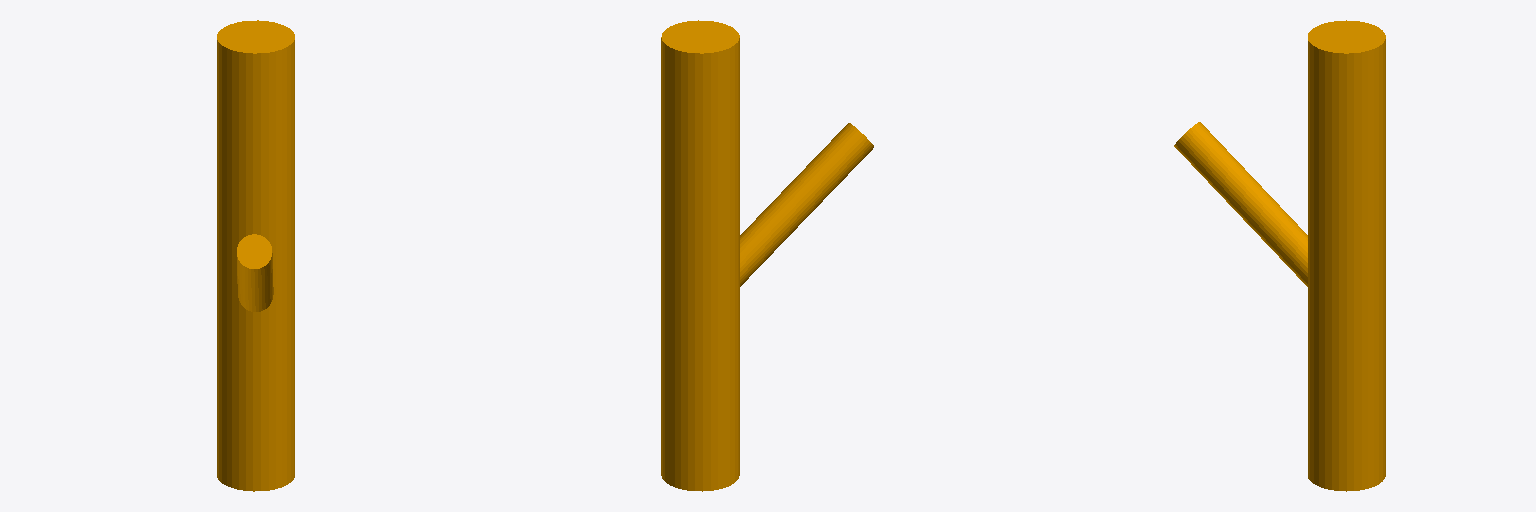
The robot description file, URDF, robot "syn_rack_7":
<?xml version="1.0" ?>
<robot name="syn_rack_7">
    <link concave="yes" name="base_link">
        <inertial>
            <origin rpy="0 0 0" xyz="0 0 0"/>
            <mass value="0.0"/>
            <inertia ixx="1e-08" ixy="0" ixz="0" iyy="1e-08" iyz="0" izz="1e-08"/>
        </inertial>
        <visual>
            <origin xyz="0 0 0" rpy="0 0 0" />
            <geometry>
                <mesh filename="syn_rack_7.obj" scale="1.000000 1.000000 1.000000"/>
            </geometry>
        </visual>

        <collision concave="yes">
            <origin xyz="0 0 0" rpy="0 0 0"/>
            <geometry>
                <mesh filename="syn_rack_7.obj" scale="1.000000 1.000000 1.000000"/>
            </geometry>
        </collision>
    </link>
</robot>
    

--- Render facts (derived) ---
The picture shows the robot from 3 angles, left to right: view 1: azimuth 30°, elevation 25°; view 2: azimuth 150°, elevation 25°; view 3: azimuth 270°, elevation 25°; orthographic projection.
Robot: syn_rack_7 — 1 links, 0 joints (none); root link base_link; default pose: every joint at zero.
Visible links, largest first — view 1: base_link; view 2: base_link; view 3: base_link.
Link boxes in pixels (x1,y1,x2,y2): base_link: (217,20,294,491); base_link: (661,20,873,491); base_link: (1174,20,1385,491).
Bounding box of the posed robot: 0.0877 × 0.1243 × 0.2835 m (x, y, z).
1 mesh visuals loaded from 1 distinct referenced files (1 OBJ).
